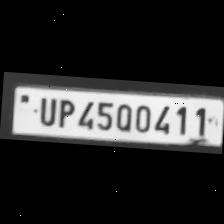0: (132, 100, 152, 132)
1: (187, 101, 212, 137), (171, 102, 191, 134)
4: (149, 100, 173, 133), (73, 95, 95, 129)
5: (91, 96, 113, 130)
P: (53, 94, 75, 127)
Q: (113, 100, 134, 132)
U: (32, 92, 56, 125)
